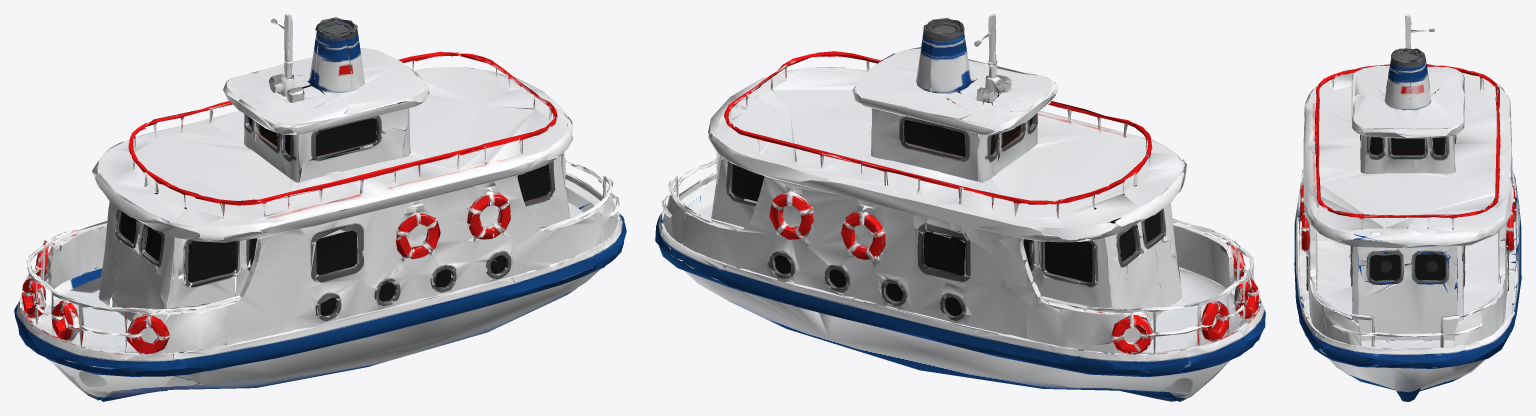
File: ferry_meshy.fbx
3 views of the same model, side by side, from view 1: azimuth 30°, elevation 25°; view 2: azimuth 150°, elevation 25°; view 3: azimuth 270°, elevation 25° (orthographic). The views are drawn at different scales.
Parts seen in each view (by area): view 1: FerryMeshy; view 2: FerryMeshy; view 3: FerryMeshy.
Part boxes in pixels (<box>): FerryMeshy: <box>14,14,626,401</box>; FerryMeshy: <box>655,14,1265,401</box>; FerryMeshy: <box>1294,14,1521,401</box>.
Bounding box in the file's own units: 59.97 × 34.2 × 24.79.
Materials: 1 (1 with a texture image).
